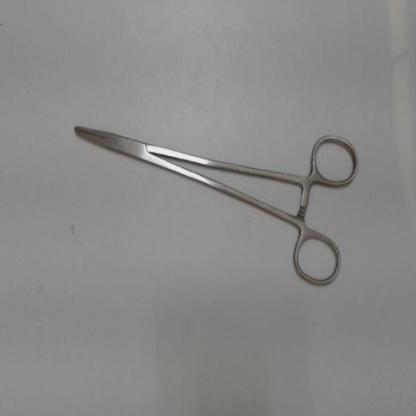8 Mayo Needle Holder: (60, 112, 363, 296)
